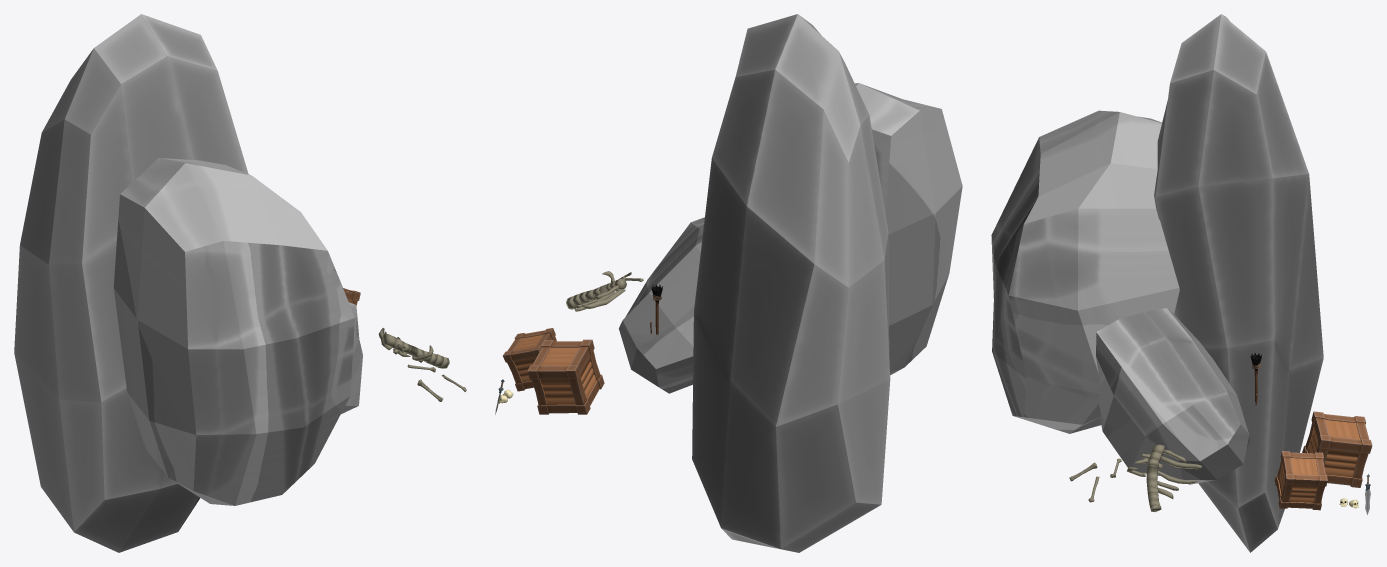
File: enviroment.glb
3 renders of one model, left to right at view 1: azimuth 30°, elevation 25°; view 2: azimuth 150°, elevation 25°; view 3: azimuth 270°, elevation 25°, orthographic. The views are drawn at different scales.
Visible parts, largest first — view 1: Rock_TestFacetada_sin_autosmooth, Rock_3, Rock_TestFacetada_sin_autosmooth__1_, Ribcage; view 2: Rock_3, Rock_TestFacetada_sin_autosmooth, Rock_TestFacetada_sin_autosmooth__1_, Caja__9_, Caja__8_, Ribcage; view 3: Rock_3, Rock_TestFacetada_sin_autosmooth, Rock_TestFacetada_sin_autosmooth__1_, Caja__9_, Caja__8_, Ribcage, Cube.
Part boxes in pixels (x1=…): Rock_TestFacetada_sin_autosmooth: x1=113, y1=158, x2=354, y2=505; Rock_3: x1=14, y1=14, x2=248, y2=552; Rock_TestFacetada_sin_autosmooth__1_: x1=341, y1=302, x2=362, y2=413; Ribcage: x1=382, y1=331, x2=449, y2=368; Rock_3: x1=692, y1=14, x2=890, y2=552; Rock_TestFacetada_sin_autosmooth: x1=855, y1=83, x2=962, y2=375; Rock_TestFacetada_sin_autosmooth__1_: x1=619, y1=217, x2=704, y2=393; Caja__9_: x1=527, y1=339, x2=604, y2=414; Caja__8_: x1=503, y1=328, x2=556, y2=391; Ribcage: x1=566, y1=278, x2=626, y2=309; Rock_3: x1=1154, y1=14, x2=1323, y2=552; Rock_TestFacetada_sin_autosmooth: x1=991, y1=110, x2=1179, y2=433; Rock_TestFacetada_sin_autosmooth__1_: x1=1096, y1=308, x2=1249, y2=484; Caja__9_: x1=1302, y1=411, x2=1372, y2=487; Caja__8_: x1=1274, y1=451, x2=1327, y2=510; Ribcage: x1=1141, y1=444, x2=1186, y2=512; Cube: x1=1127, y1=456, x2=1201, y2=498.
Bounding box in the file's own units: 15.06 × 21.56 × 14.42.
Materials: 8 (6 with a texture image).
